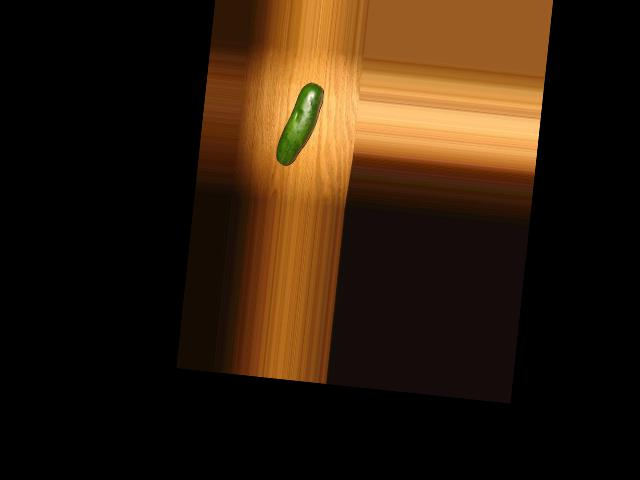cucumber: (275, 81, 324, 169)
